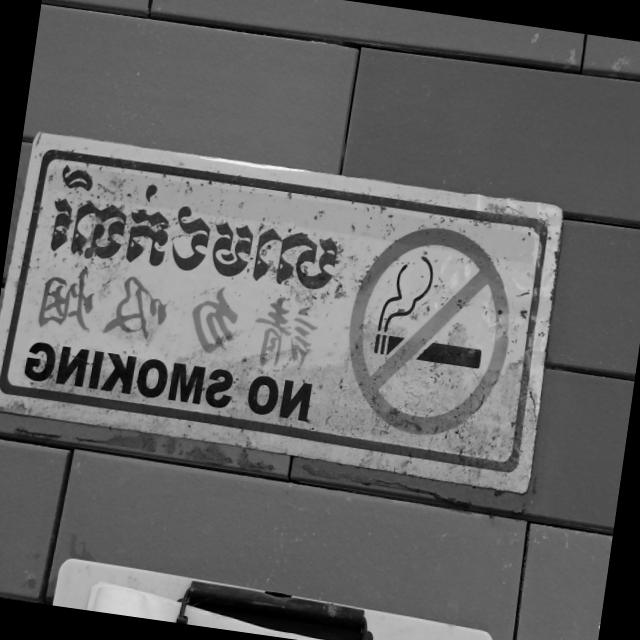Yolov11kh: (36, 158, 351, 306)
